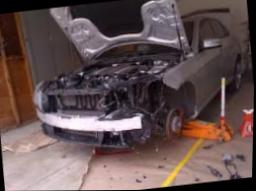Bonnet: (43, 0, 193, 90)
Bumper: (37, 92, 177, 144)
Light: (120, 83, 160, 108)
